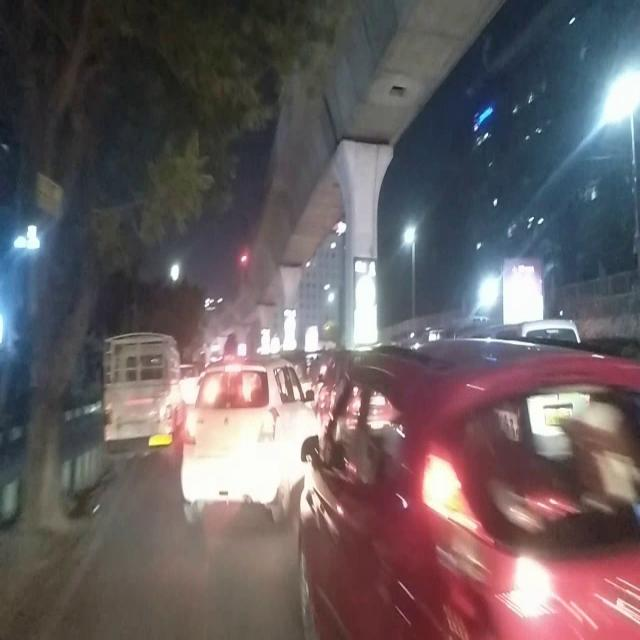car: (305, 332, 640, 640), (182, 362, 305, 524)
road: (0, 441, 305, 640)
sidewalk: (61, 409, 97, 498), (0, 435, 21, 526)
van: (99, 320, 183, 467)
